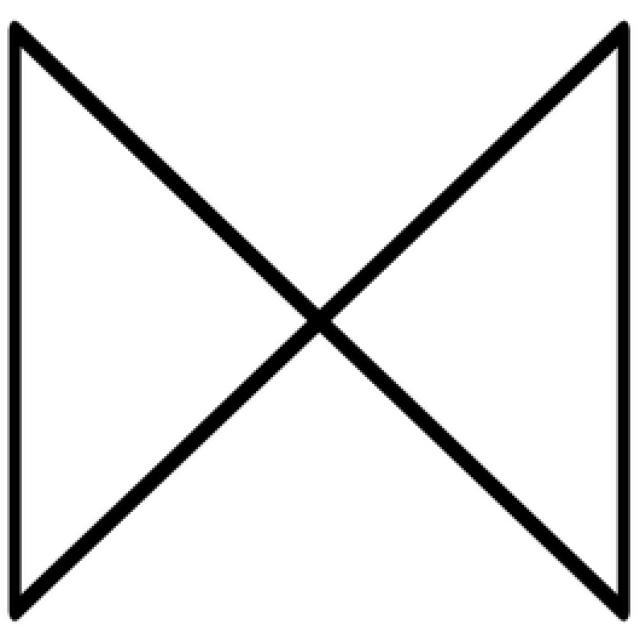Gate valve: (12, 28, 623, 610)
